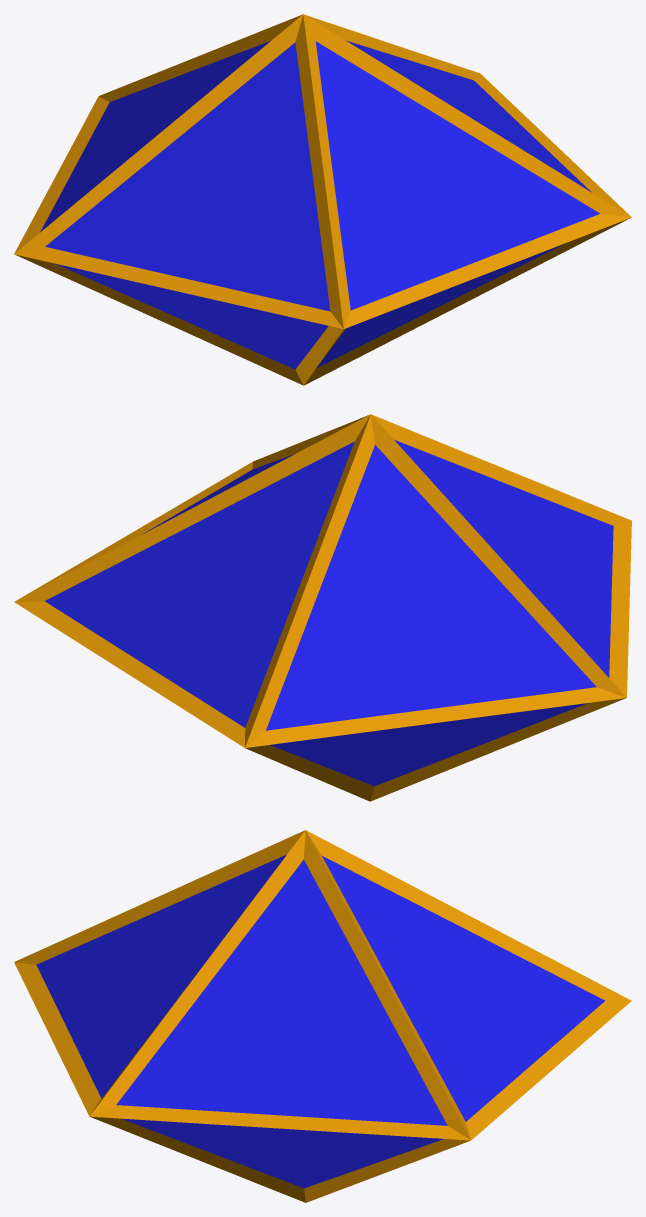
The picture shows the model from 3 angles, top to bottom: view 1: azimuth 30°, elevation 25°; view 2: azimuth 150°, elevation 25°; view 3: azimuth 270°, elevation 25°; orthographic projection. The views are drawn at different scales.
Visible parts, largest first — view 1: Solid.002; view 2: Solid.002; view 3: Solid.002.
Boxes of the visible parts, x1=… form: Solid.002: x1=14, y1=14, x2=631, y2=385; Solid.002: x1=14, y1=414, x2=631, y2=801; Solid.002: x1=14, y1=830, x2=631, y2=1202.
Size of the model in its own units: 1.67 by 1.12 by 1.69.
